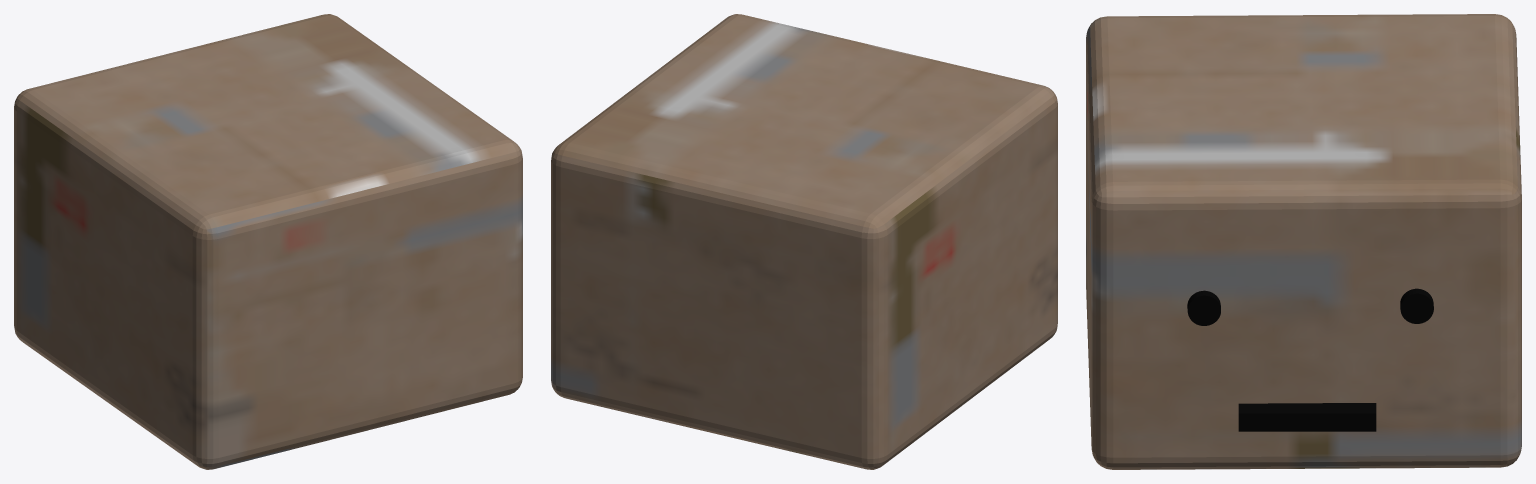
Rendered from packet-base.glb.
The picture shows the model from 3 angles, left to right: view 1: azimuth 30°, elevation 25°; view 2: azimuth 150°, elevation 25°; view 3: azimuth 270°, elevation 25°; orthographic projection. The views are drawn at different scales.
Visible parts, largest first — view 1: 立方体; view 2: 立方体; view 3: 立方体, 口, 左目, 右目.
Part boxes in pixels (x1,y1,x2,y2): 立方体: (14, 14, 522, 469); 立方体: (551, 14, 1057, 469); 立方体: (1086, 14, 1521, 469); 口: (1238, 403, 1376, 431); 左目: (1400, 288, 1433, 323); 右目: (1187, 290, 1220, 325).
Size of the model in its own units: 2.13 by 1.47 by 2.03.
4 materials, 1 textured.
